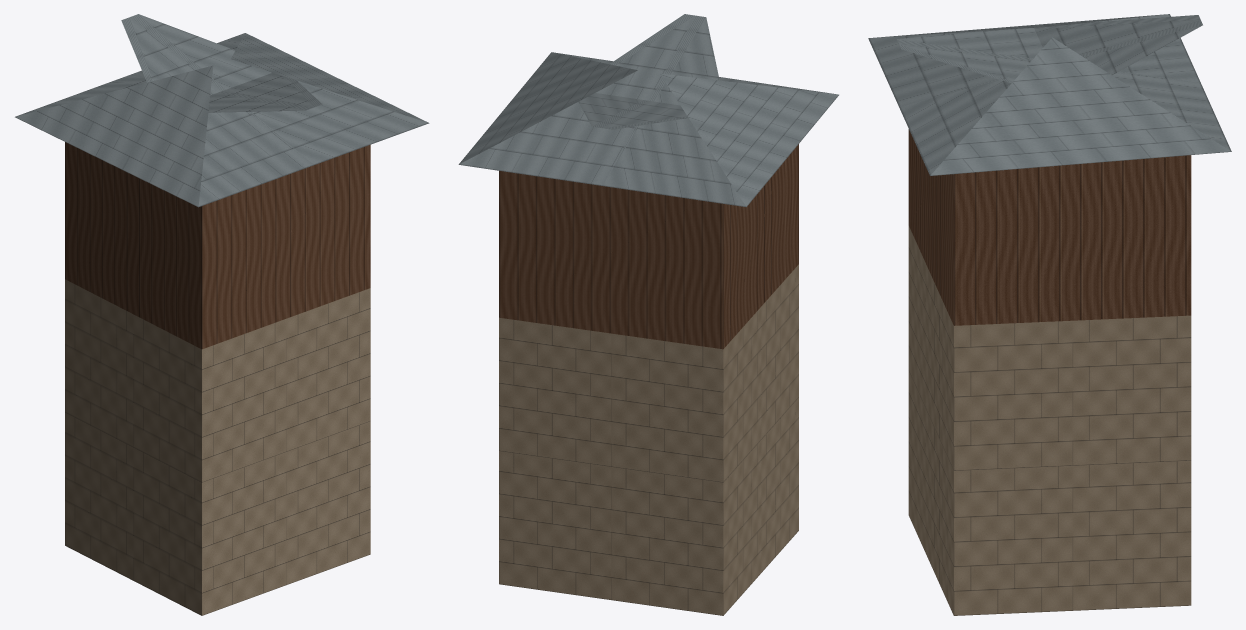
File: bld_c10_19_425.gltf
3 renders of one model, left to right at view 1: azimuth 30°, elevation 25°; view 2: azimuth 150°, elevation 25°; view 3: azimuth 270°, elevation 25°, orthographic. The views are drawn at different scales.
Parts seen in each view (by area): view 1: bld_c10_19_425; view 2: bld_c10_19_425; view 3: bld_c10_19_425.
Boxes of the visible parts, x1,y1,x2,y2 form: bld_c10_19_425: [15, 14, 429, 615]; bld_c10_19_425: [458, 14, 838, 615]; bld_c10_19_425: [868, 14, 1231, 615].
Bounding box in the file's own units: 5.53 × 8.4 × 5.24.
Materials: 3 (3 with a texture image).
